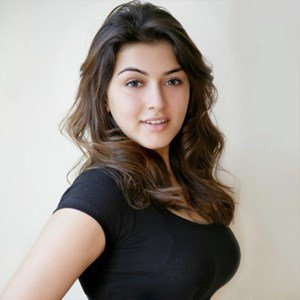noMask: (80, 4, 221, 151)
